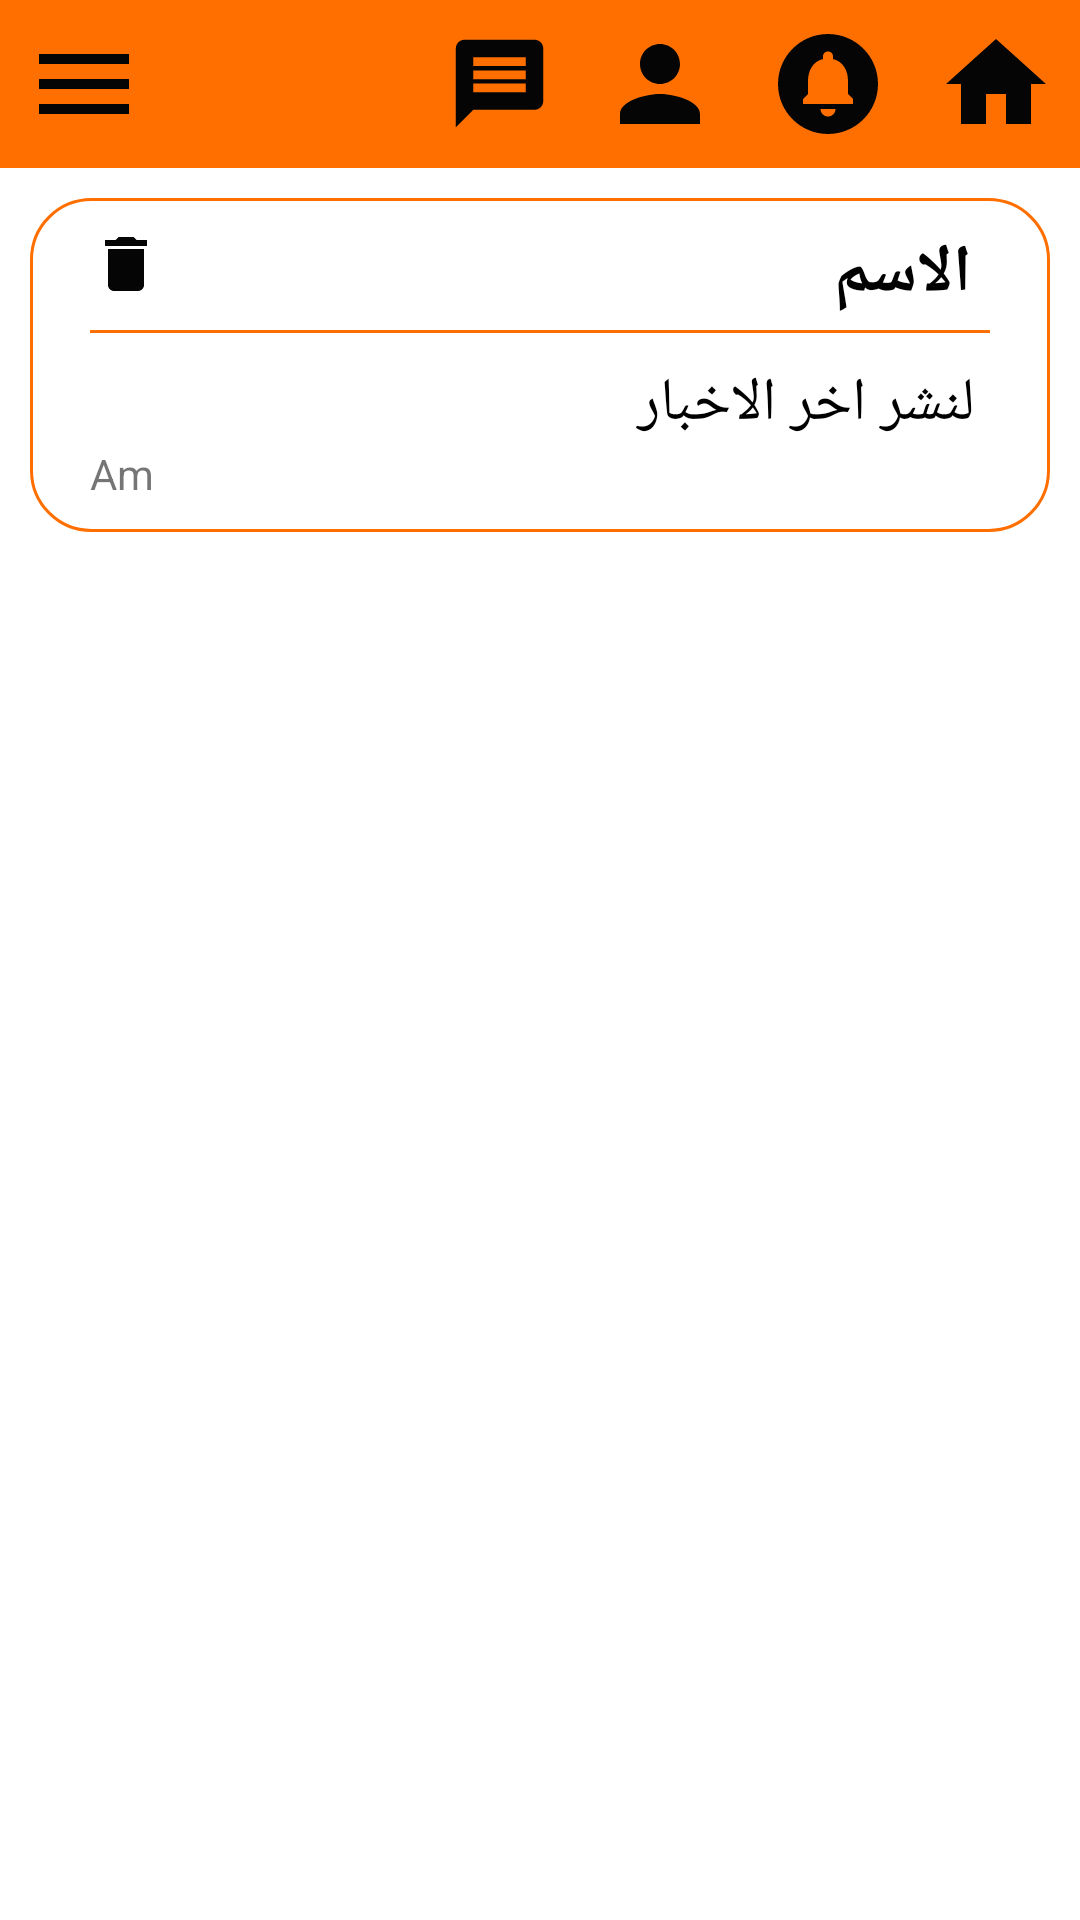

Locate icon controls on the screen. Image size 1080x1920, boxes as (x1, y1, x2, y2).
delete: (105, 237, 147, 291)
home: (946, 39, 1046, 124)
menu: (39, 54, 129, 114)
message: (455, 39, 544, 127)
notifications: (778, 34, 878, 134)
person: (620, 44, 700, 124)
